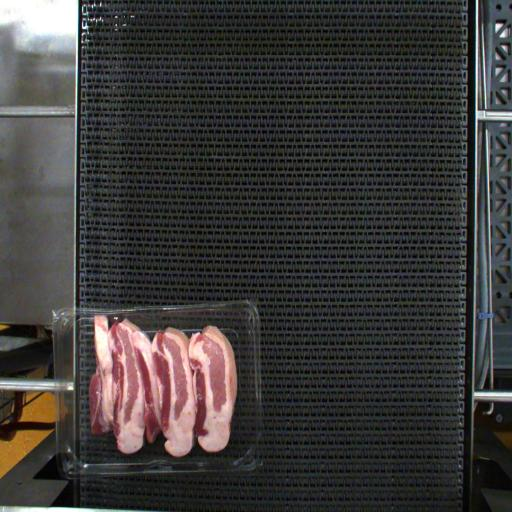twisted-meat: (83, 310, 111, 433)
